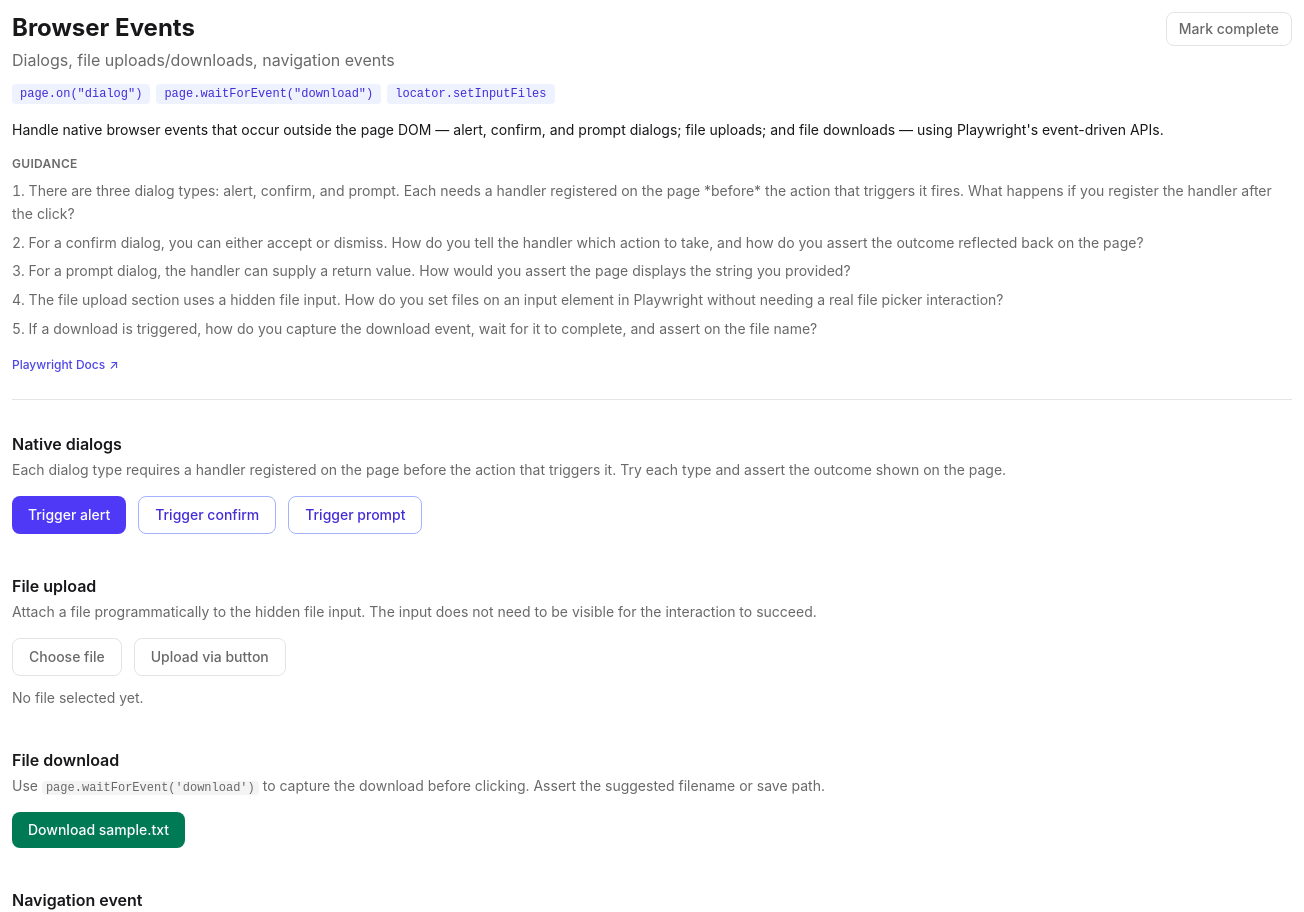
BrowserEvents › records accepted alert dialog result
This screenshot has width=1304, height=912.
Click the button "Trigger alert" at point(69, 514), box [12, 496, 126, 534]
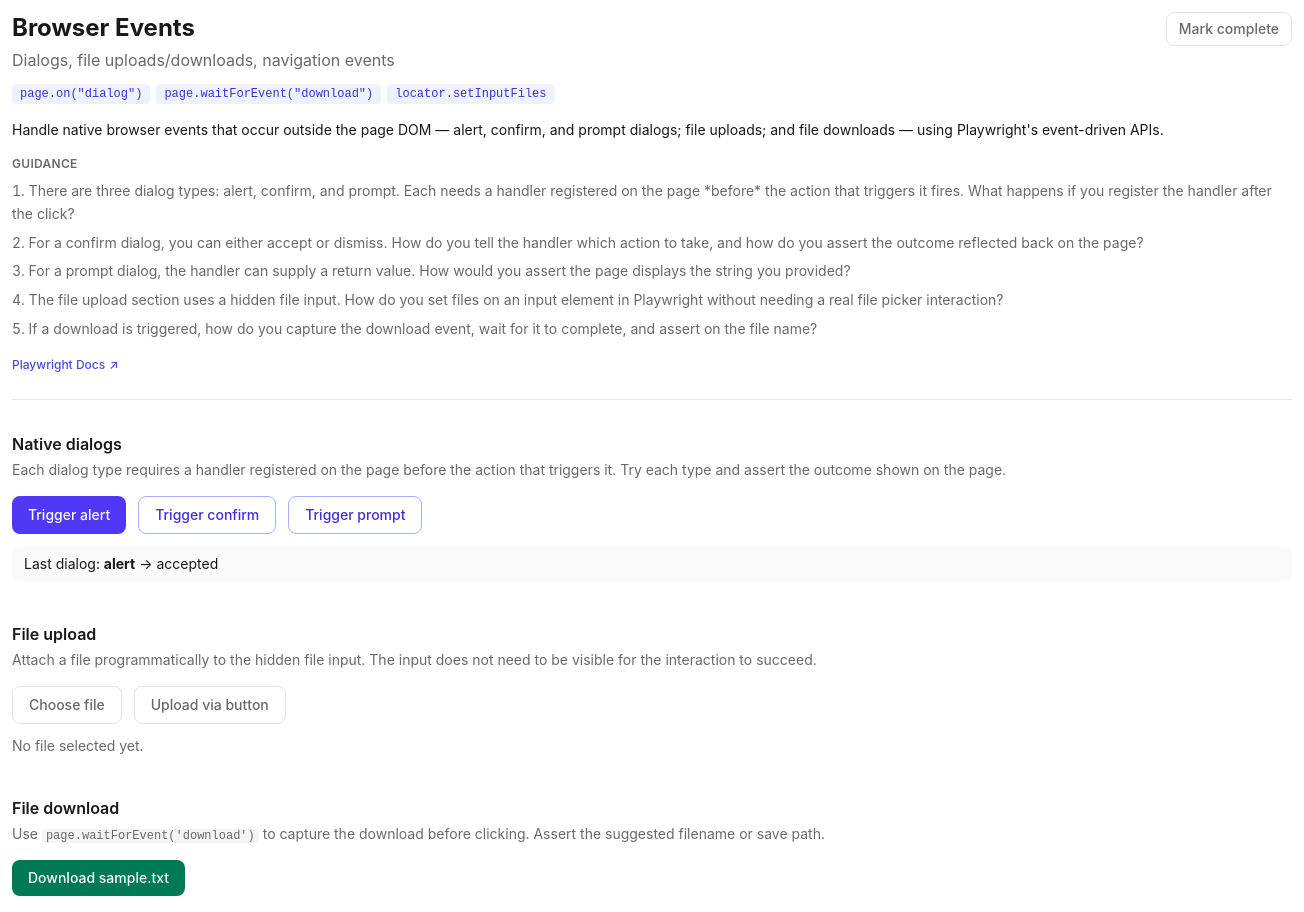
Expected: the message shows "Last dialog: alert", [12, 546, 1292, 582]
Expected: the message shows "accepted", [156, 554, 218, 572]
